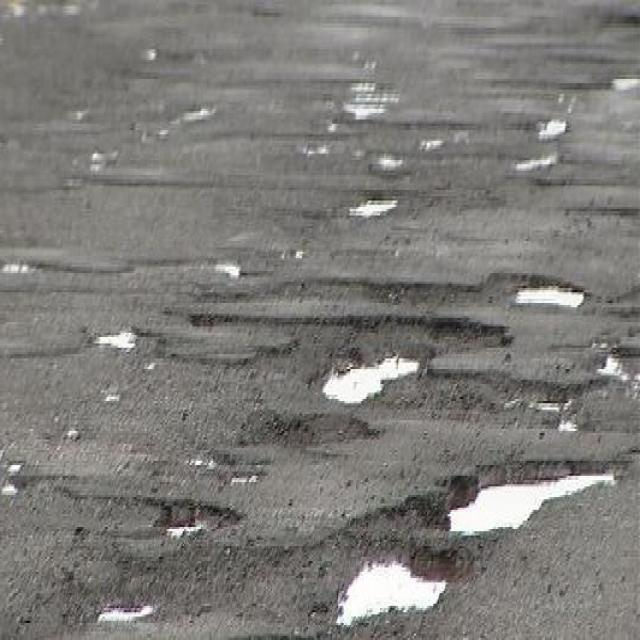Pothole: (397, 451, 625, 539), (334, 541, 462, 633), (319, 347, 424, 407), (485, 268, 591, 313), (150, 494, 253, 537), (365, 274, 484, 308), (422, 319, 512, 362)
